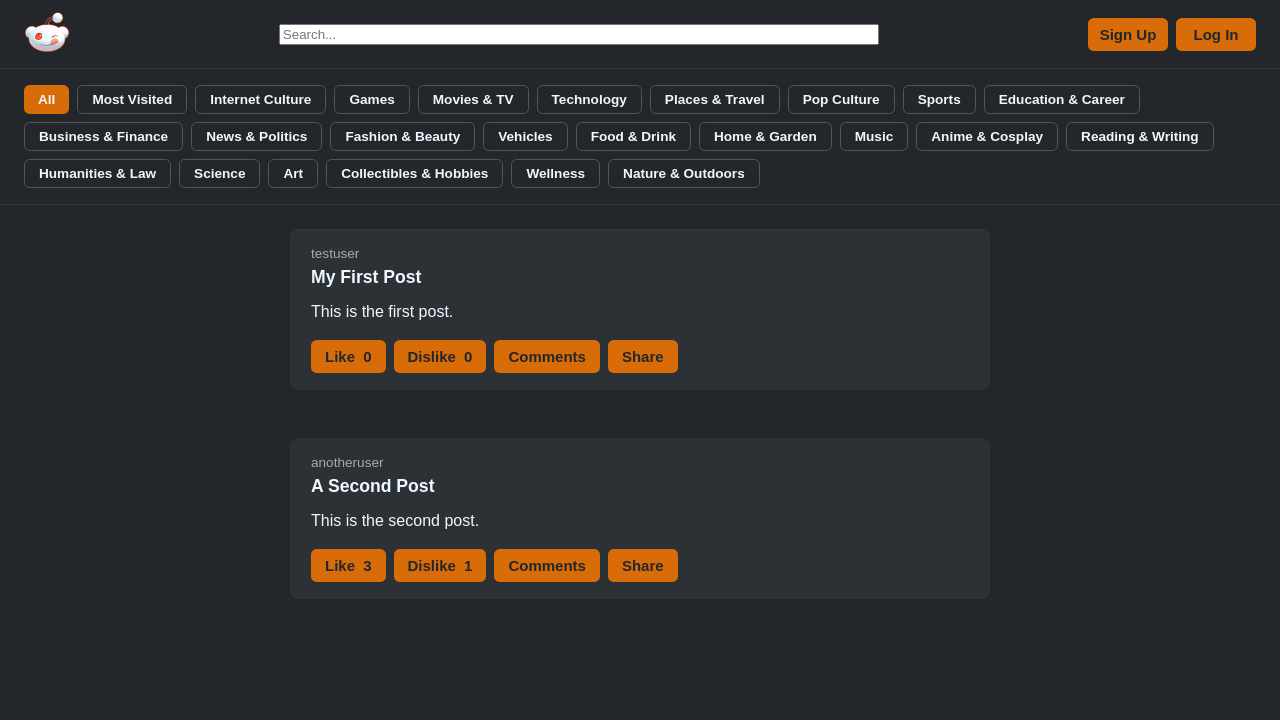
it: clicking Like in the feed while logged out opens the login form
The width and height of the screenshot is (1280, 720).
Check: the text "My First Post" is shown, box [311,267,422,287]
What coordinates should you click on to do the following:
click the button "Like 0"
I would click on:
 (348, 356)
Its box is [311,340,386,373].
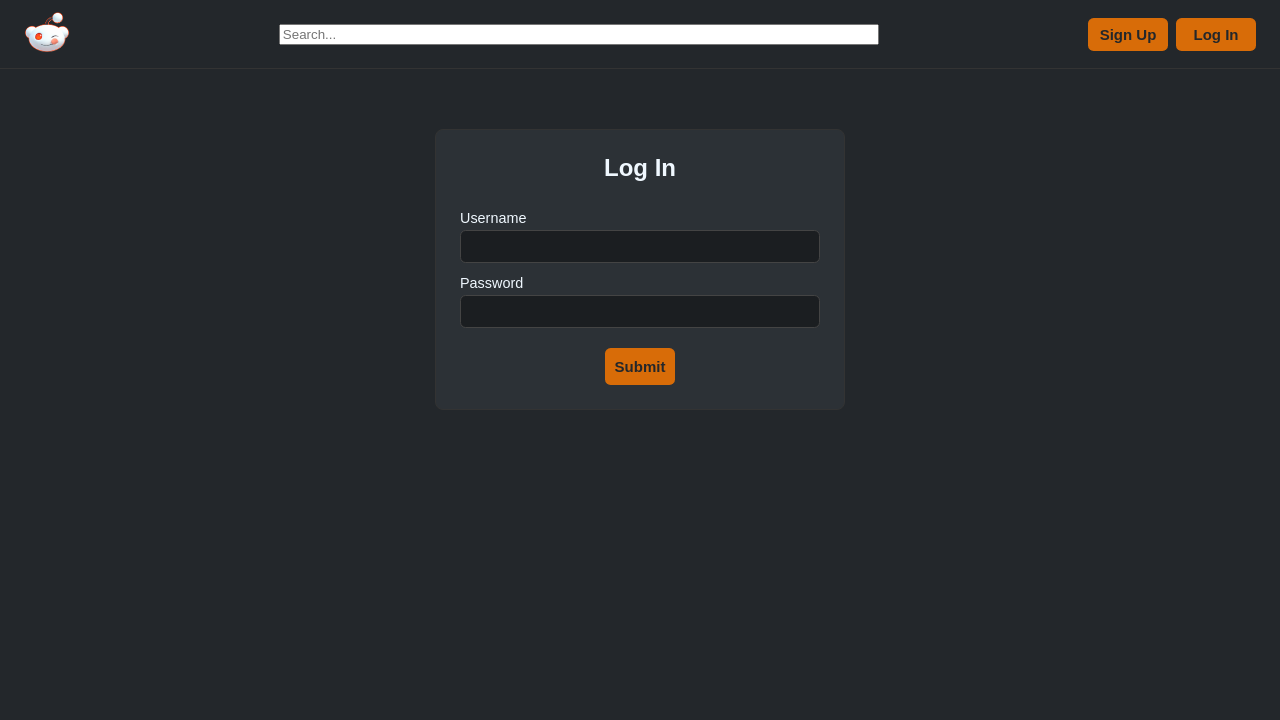
Check: the heading "Log In" is shown, box [604,154,676,181]
